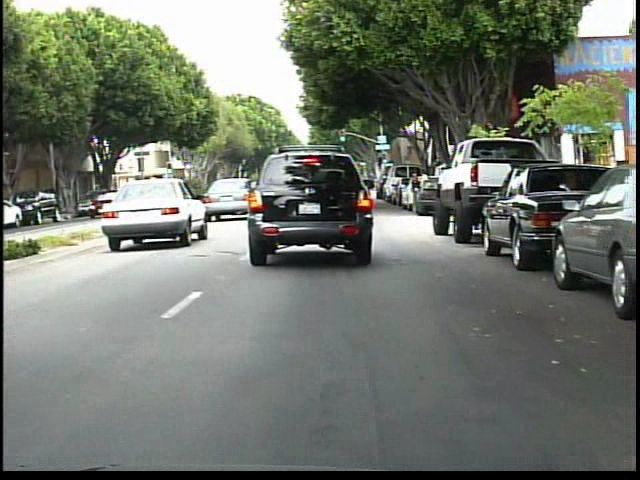person: (408, 169, 422, 218), (416, 167, 432, 207)
